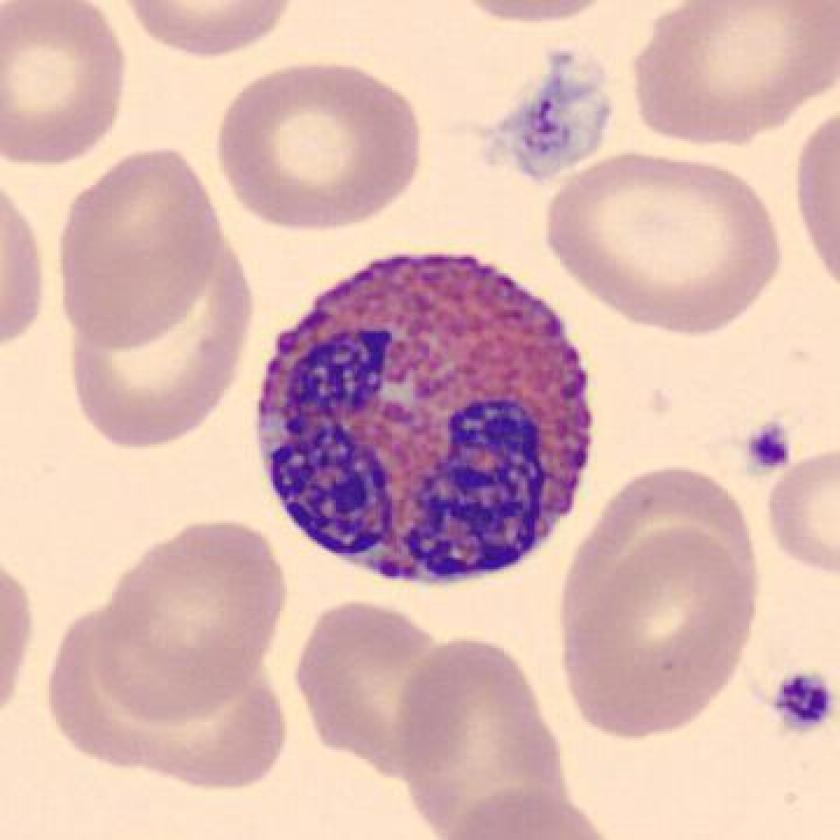eosinophil: (246, 247, 605, 594)
